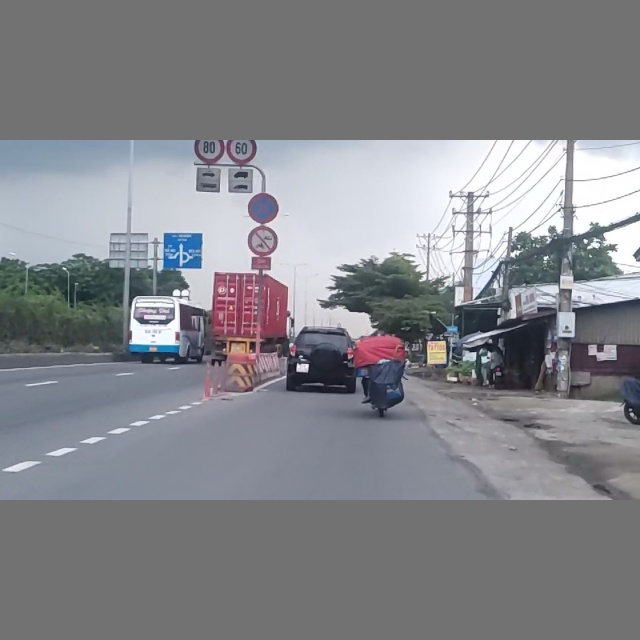P.111: (247, 225, 279, 255)
P.127*60: (226, 141, 256, 163)
P.127*80: (193, 141, 225, 163)
P.130: (247, 192, 280, 223)
